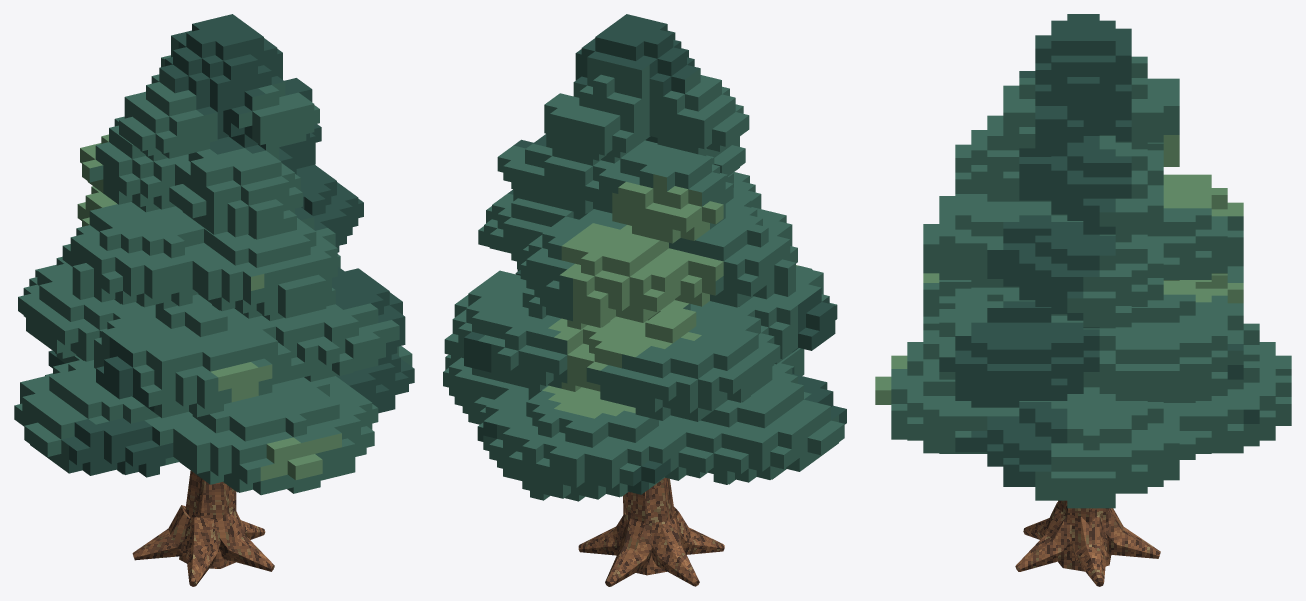
3 views of the same model, side by side, from view 1: azimuth 30°, elevation 25°; view 2: azimuth 150°, elevation 25°; view 3: azimuth 270°, elevation 25° (orthographic). The views are drawn at different scales.
Parts seen in each view (by area): view 1: Canopy__cedar, Trunk__bark; view 2: Canopy__cedar, Trunk__bark; view 3: Canopy__cedar, Trunk__bark.
Boxes of the visible parts, bbox=[...] form: Canopy__cedar: bbox=[14, 14, 414, 495]; Trunk__bark: bbox=[132, 471, 274, 586]; Canopy__cedar: bbox=[443, 14, 846, 501]; Trunk__bark: bbox=[578, 477, 724, 586]; Canopy__cedar: bbox=[875, 14, 1291, 508]; Trunk__bark: bbox=[1015, 500, 1160, 586].
Size of the model in its own units: 4.86 by 6.68 by 4.68.
Materials: 5 (1 with a texture image).
